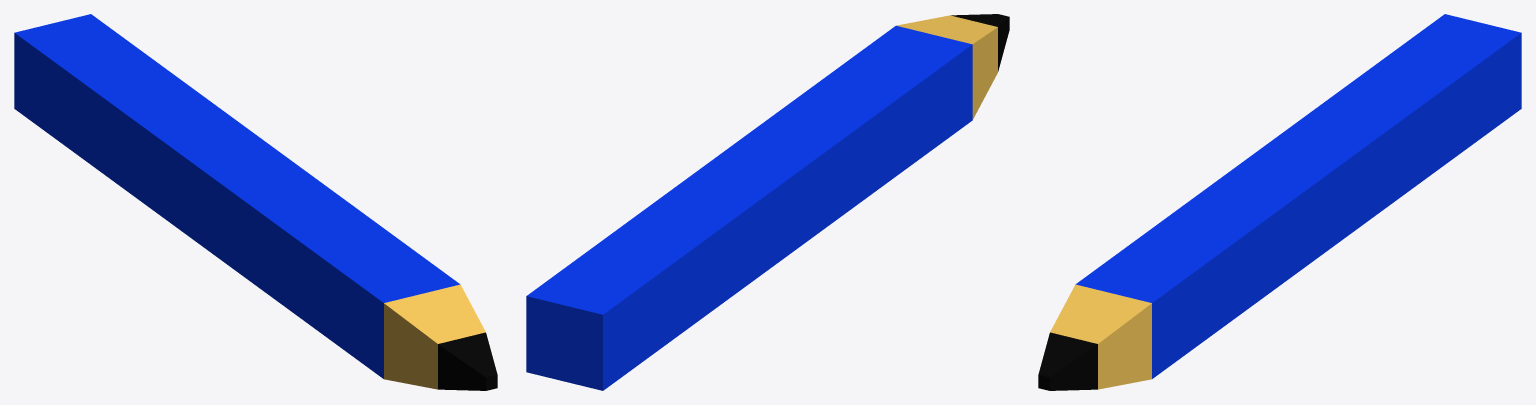
The model's file is opencil_blue.FBX.
3 renders of one model, left to right at view 1: azimuth 30°, elevation 25°; view 2: azimuth 150°, elevation 25°; view 3: azimuth 330°, elevation 25°, orthographic.
Visible parts, largest first — view 1: Box001; view 2: Box001; view 3: Box001.
Boxes of the visible parts, x1,y1,x2,y2 form: Box001: (14, 14, 497, 390); Box001: (526, 14, 1009, 390); Box001: (1038, 14, 1521, 390).
Size of the model in its own units: 6.43 by 63.81 by 6.11.
Materials: 3 (3 with a texture image).
